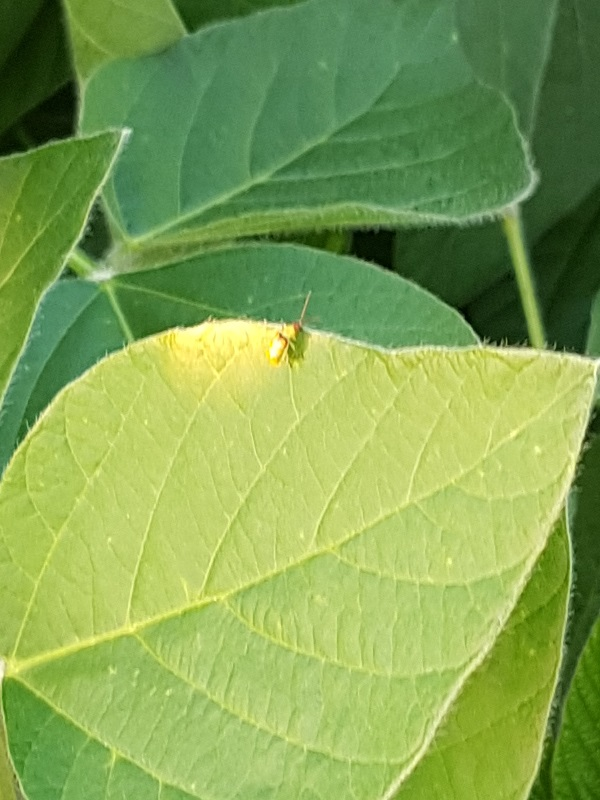Diabrotica_speciosa: (261, 287, 332, 374)
